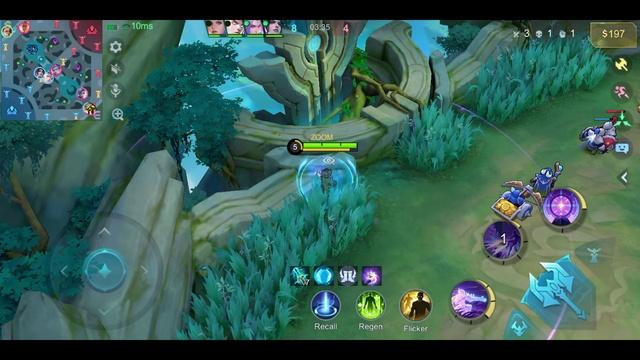Adc_Aliado: (1, 25, 15, 38)
Adc_Enemigo: (19, 22, 30, 32)
Arbusto: (181, 176, 375, 337), (457, 35, 611, 124), (392, 97, 477, 172)
EXP_Lane: (94, 110, 102, 121)
Energia: (302, 148, 356, 152)
Esbirro_Aliado: (491, 183, 538, 220), (531, 162, 563, 194), (578, 124, 615, 150)
Exp_Aliado: (81, 101, 93, 112)
Exp_Enemigo: (88, 106, 98, 117)
Gold_Lane: (4, 21, 14, 32)
HP_Heroe_Principal: (303, 143, 355, 148)
Hechizo_Batalla: (401, 289, 431, 321)
Jungla_Enemigo: (74, 87, 91, 101)
Lesly: (317, 168, 334, 192)
Mid_Aliado: (32, 66, 45, 79)
Mid_Enemigo: (49, 63, 61, 76)
Minimapa: (0, 21, 102, 120)
Roamer_Aliado: (42, 72, 55, 84)
Skill1: (449, 281, 492, 325)
Skill3: (542, 188, 585, 225)
